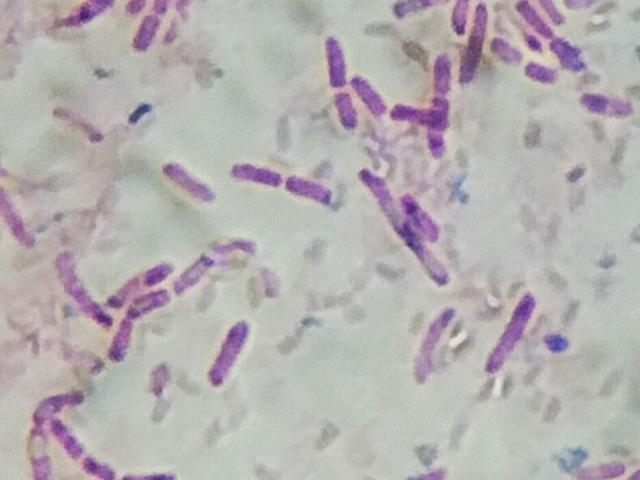E. coli: (482, 289, 545, 376), (406, 306, 462, 386), (202, 317, 252, 386), (53, 256, 103, 318), (0, 182, 38, 251), (361, 170, 403, 231), (112, 257, 170, 298), (32, 377, 91, 417), (162, 155, 203, 207), (466, 5, 494, 78), (228, 157, 285, 192), (402, 233, 443, 281), (395, 100, 454, 131), (281, 167, 329, 205), (319, 35, 351, 90), (579, 85, 626, 122), (402, 193, 439, 238), (52, 0, 118, 25), (25, 420, 52, 480), (351, 69, 382, 118), (425, 96, 449, 157), (568, 456, 628, 480), (133, 15, 163, 61), (325, 90, 358, 131), (555, 35, 589, 73), (522, 59, 562, 91), (125, 290, 169, 319), (179, 250, 210, 291), (529, 0, 576, 27), (145, 355, 176, 394), (52, 415, 80, 454), (516, 0, 543, 40), (109, 313, 131, 362), (446, 0, 473, 37), (488, 39, 524, 66), (387, 0, 431, 21), (121, 463, 175, 480), (79, 453, 113, 480), (431, 50, 451, 87)
